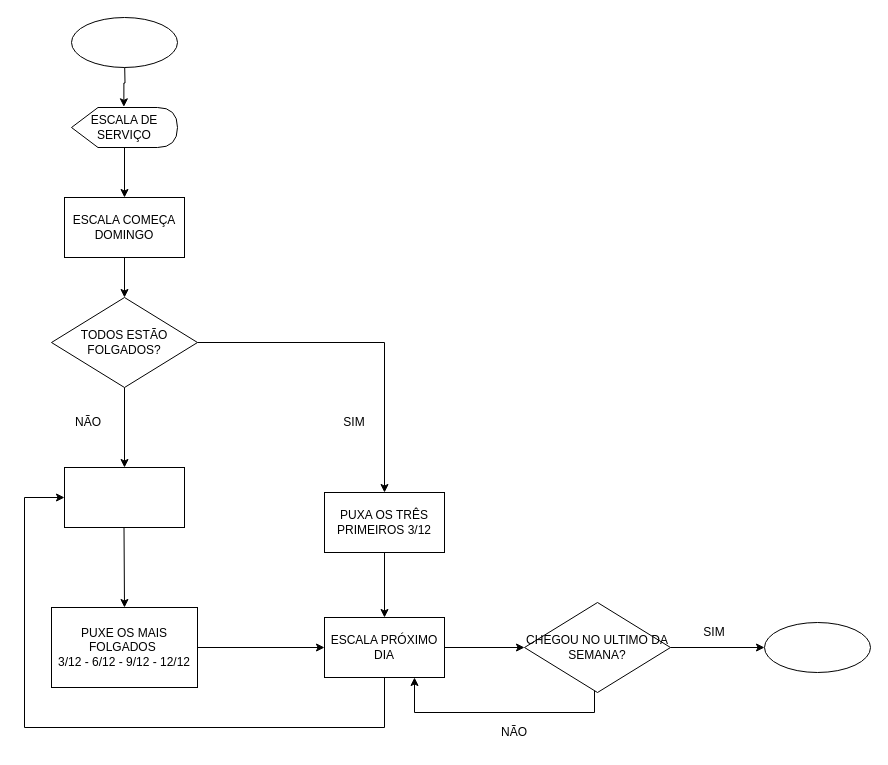
Image size: 888x765. Some labels were removed from this diagram. Each missing label, with the box of its shape:
DESCUBRA QUEM SÃO OS TRÊS MAIS FOLGADOS: (64, 466, 184, 528)
FIM: (764, 622, 870, 672)
INICIO: (70, 16, 178, 68)
